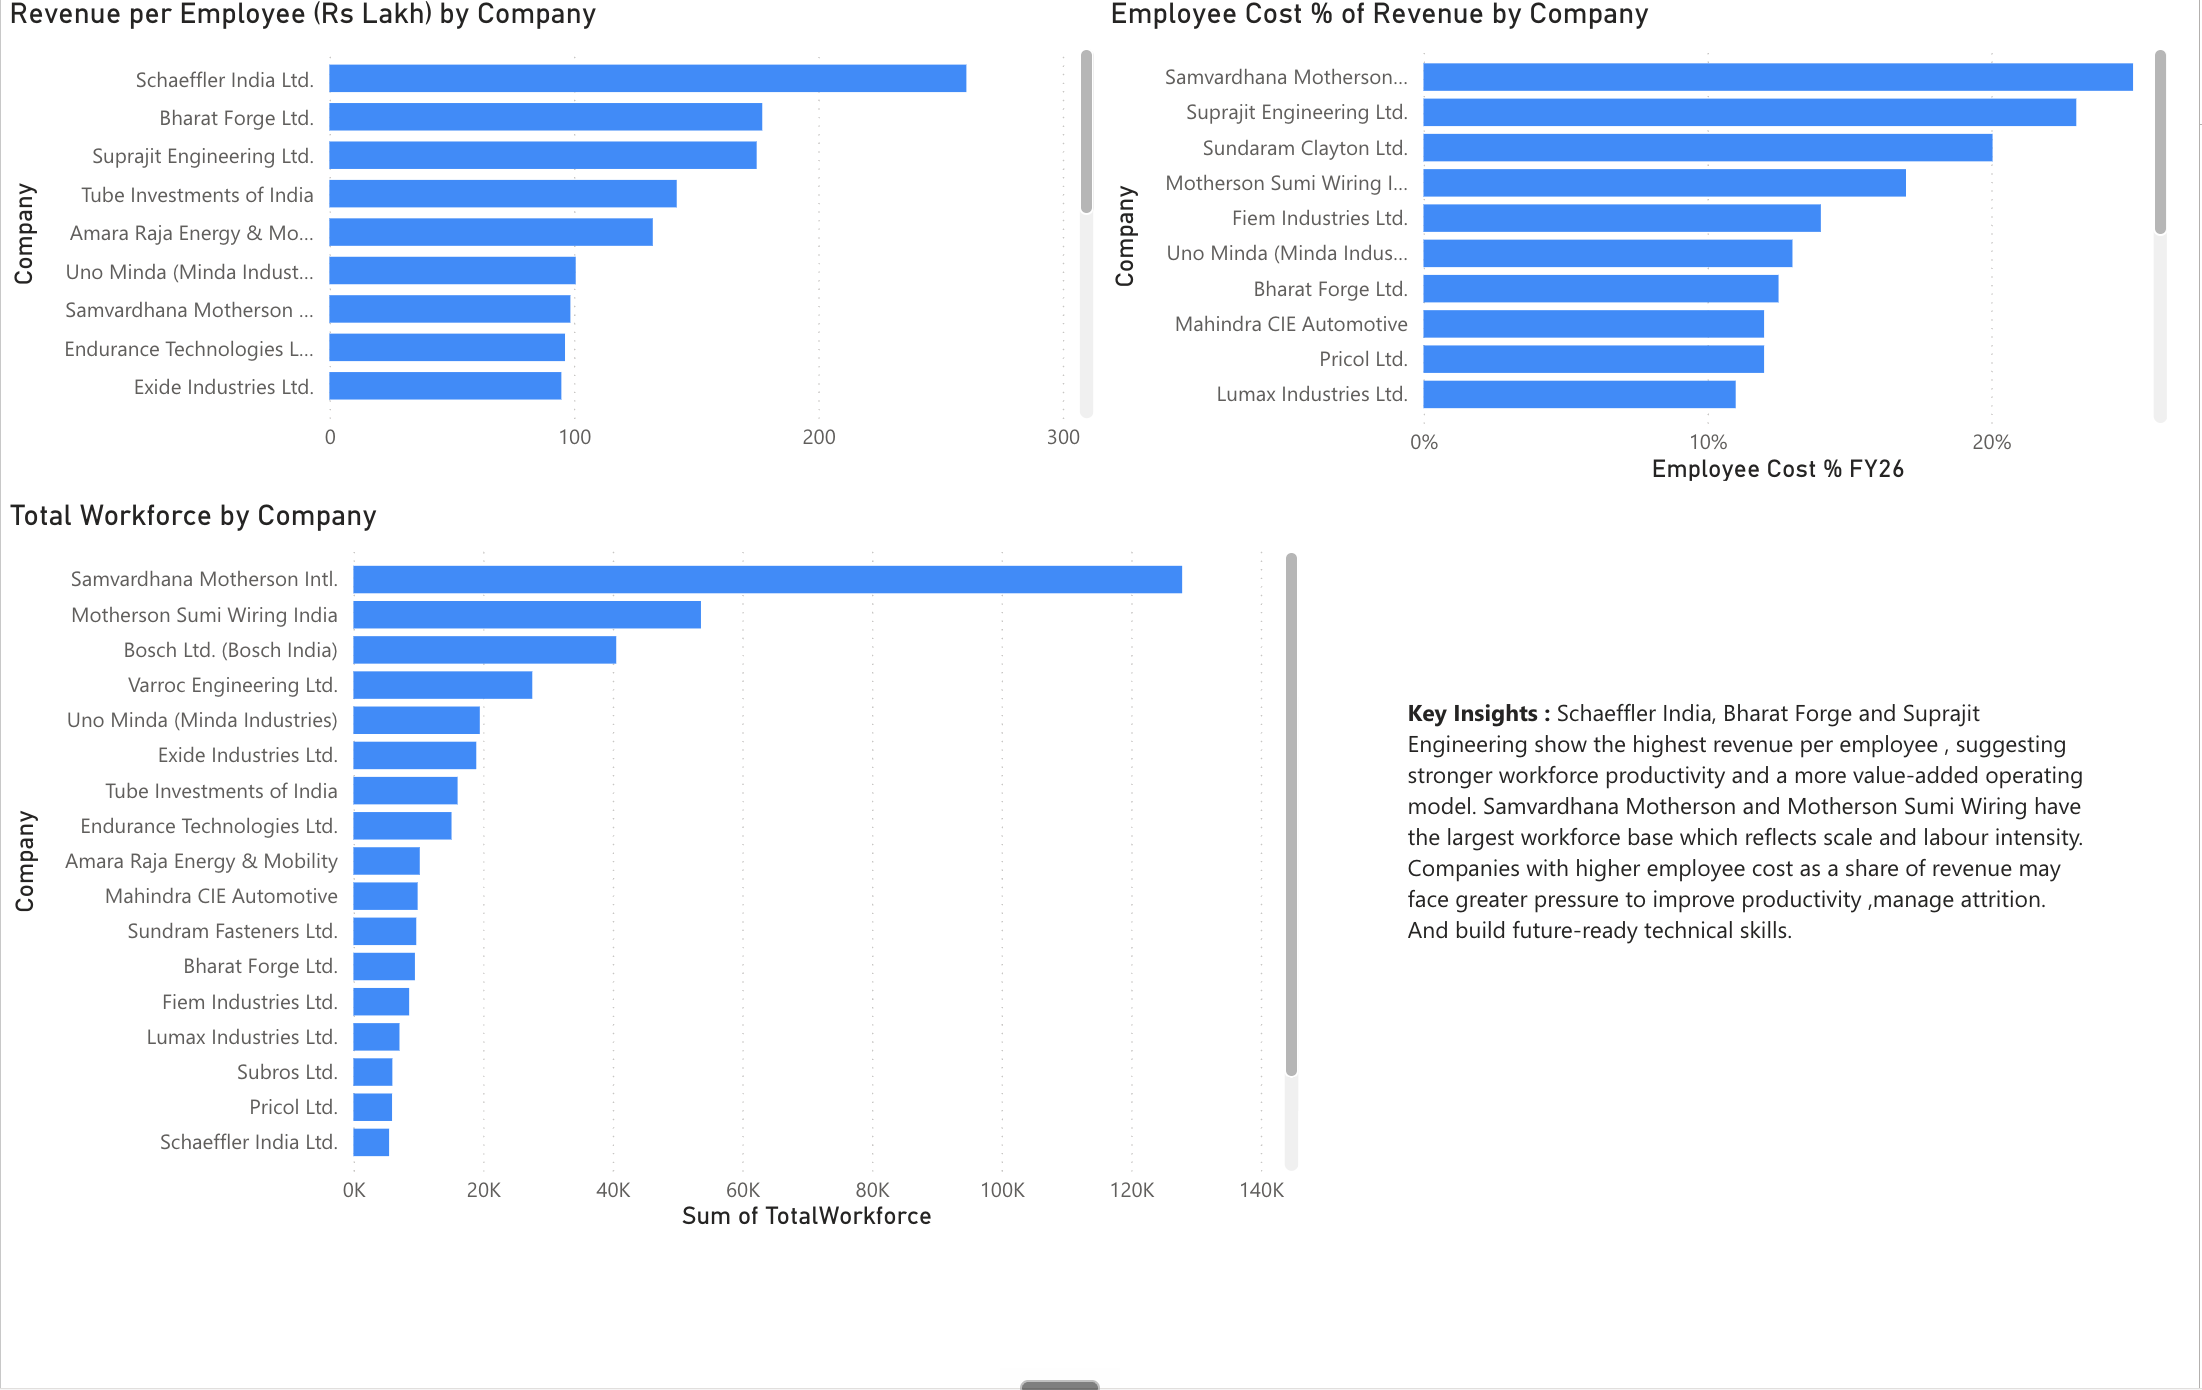

Layout of this report page (visuals, bound fields, positions):
{"tool":"powerbi","page":{"name":"Workforce Productivity","canvas":[1280,720],"ordinal":1},"visuals":[{"type":"clusteredBarChart","title":"Employee Cost % of Revenue by Company","fields":{"Category":["Dashboard_Data.Company"],"Y":["Avg(Dashboard_Data.EmployeeCost % FY26)"]},"box":[640.8,0,625,284.8],"z":0},{"type":"clusteredBarChart","title":"Revenue per Employee (Rs Lakh) by Company","fields":{"Category":["Dashboard_Data.Company"],"Y":["Sum(Dashboard_Data.Revenue per EmployeeFY26 (Rs Lakh))"]},"box":[0,0,640.8,272.1],"z":1},{"type":"clusteredBarChart","title":" Total Workforce by Company","fields":{"Category":["Dashboard_Data.Company"],"Y":["Sum(Dashboard_Data.TotalWorkforce)"]},"box":[0,292.7,760.1,427.7],"z":2},{"type":"textbox","box":[813.6,399.9,408.8,213.3],"z":3}]}

Visuals, with their boxes on the page's 1280x720 design canvas (x1, y1, x2, y2). These are canvas units, not pixel positions in the 2202x1390 screenshot, which may show the page scaled, cropped or inside an application window:
"Employee Cost % of Revenue by Company" clusteredBarChart: <box>641,0,1266,285</box>
"Revenue per Employee (Rs Lakh) by Company" clusteredBarChart: <box>0,0,641,272</box>
" Total Workforce by Company" clusteredBarChart: <box>0,293,760,720</box>
textbox: <box>814,400,1222,613</box>
